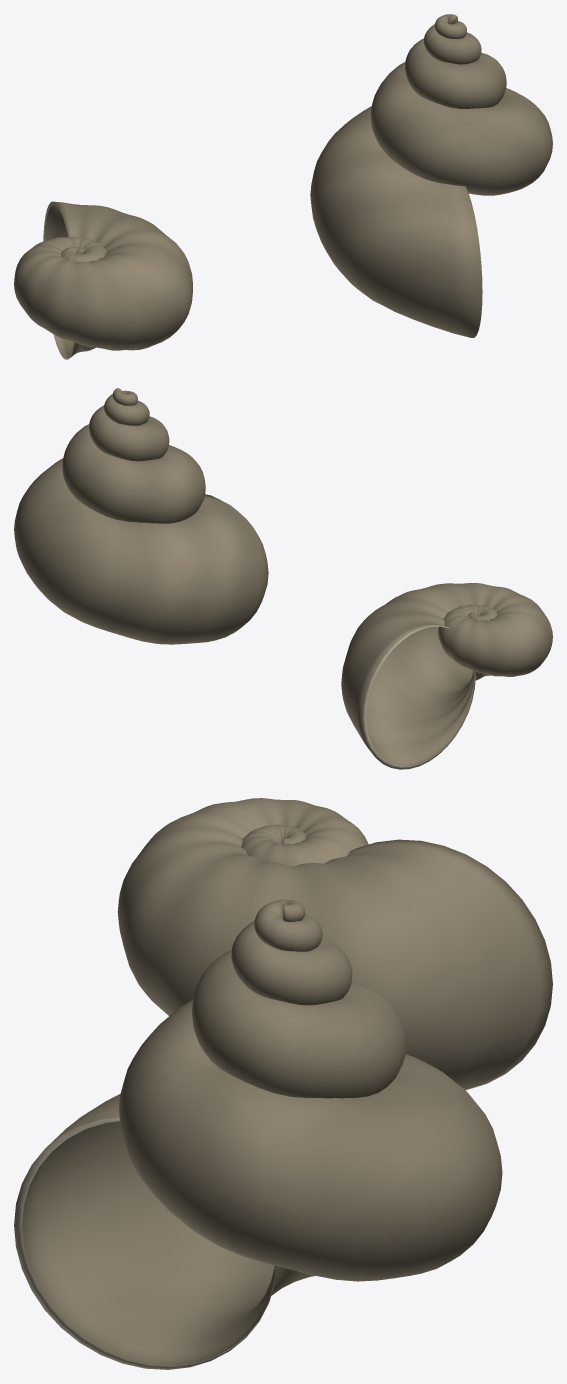
Rendered from gastropod-shells.glb.
The picture shows the model from 3 angles, top to bottom: view 1: azimuth 30°, elevation 25°; view 2: azimuth 150°, elevation 25°; view 3: azimuth 270°, elevation 25°; orthographic projection. The views are drawn at different scales.
Visible parts, largest first — view 1: gastropod-shells; view 2: gastropod-shells; view 3: gastropod-shells.
Part boxes in pixels (x1,y1,x2,y2): gastropod-shells: [14, 14, 552, 359]; gastropod-shells: [14, 388, 552, 769]; gastropod-shells: [14, 798, 552, 1369].
Size of the model in its own units: 0.184 by 0.0937 by 0.094.
